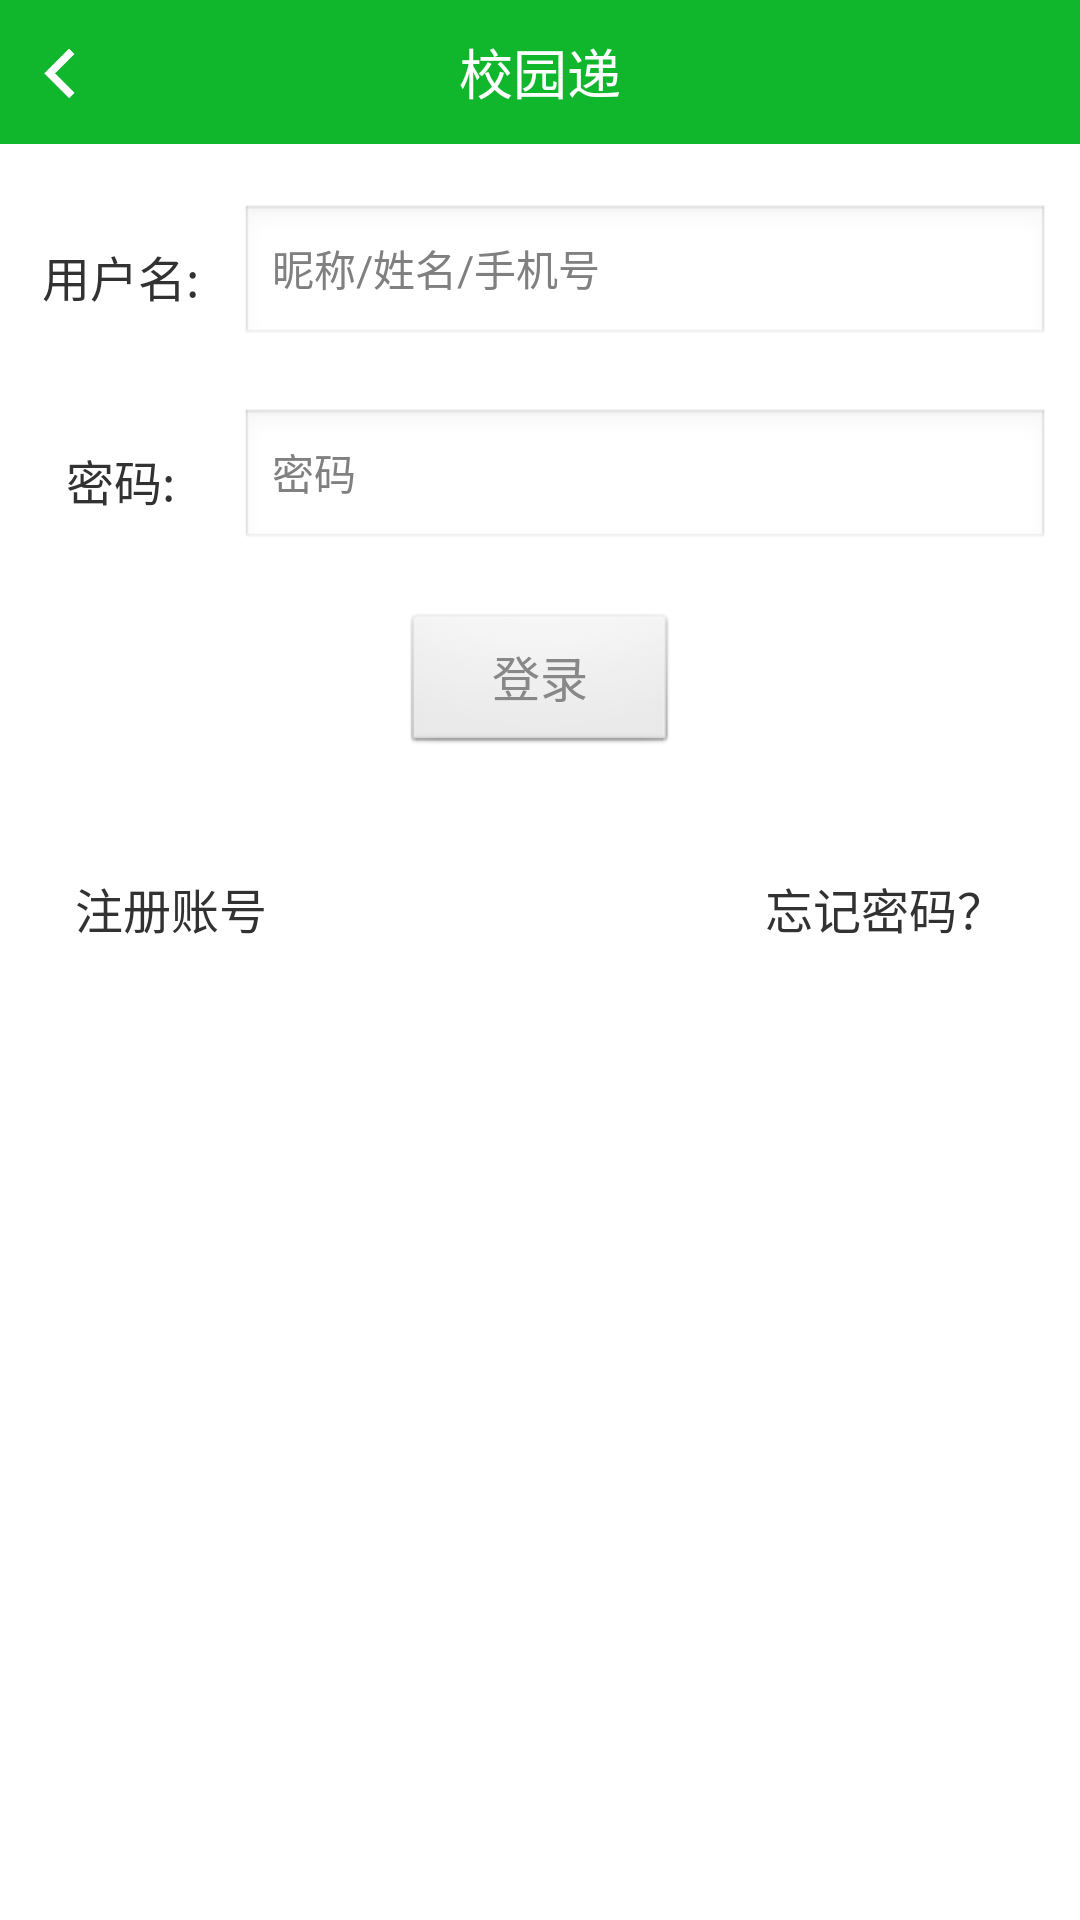

Where to tap for icons on this 1080w x 1920h app screen, as (x,y):
back: (59,73)
